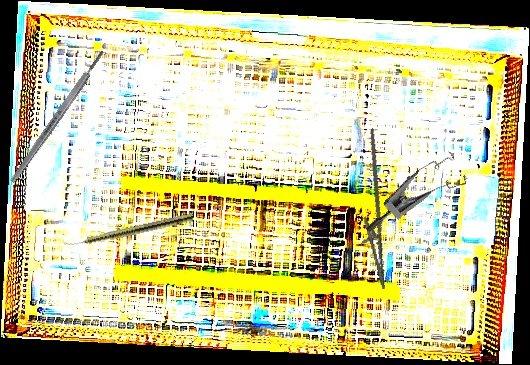Handpiece: (63, 211, 194, 251)
Needle Holder: (339, 128, 405, 292)
Scalpel Handle: (8, 48, 107, 185)
Speculum: (364, 138, 476, 261)
